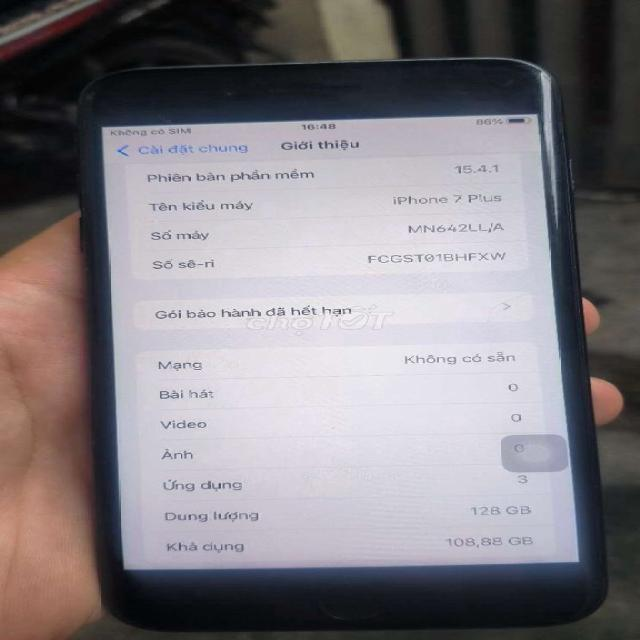gen_7_8: (68, 53, 619, 632)
